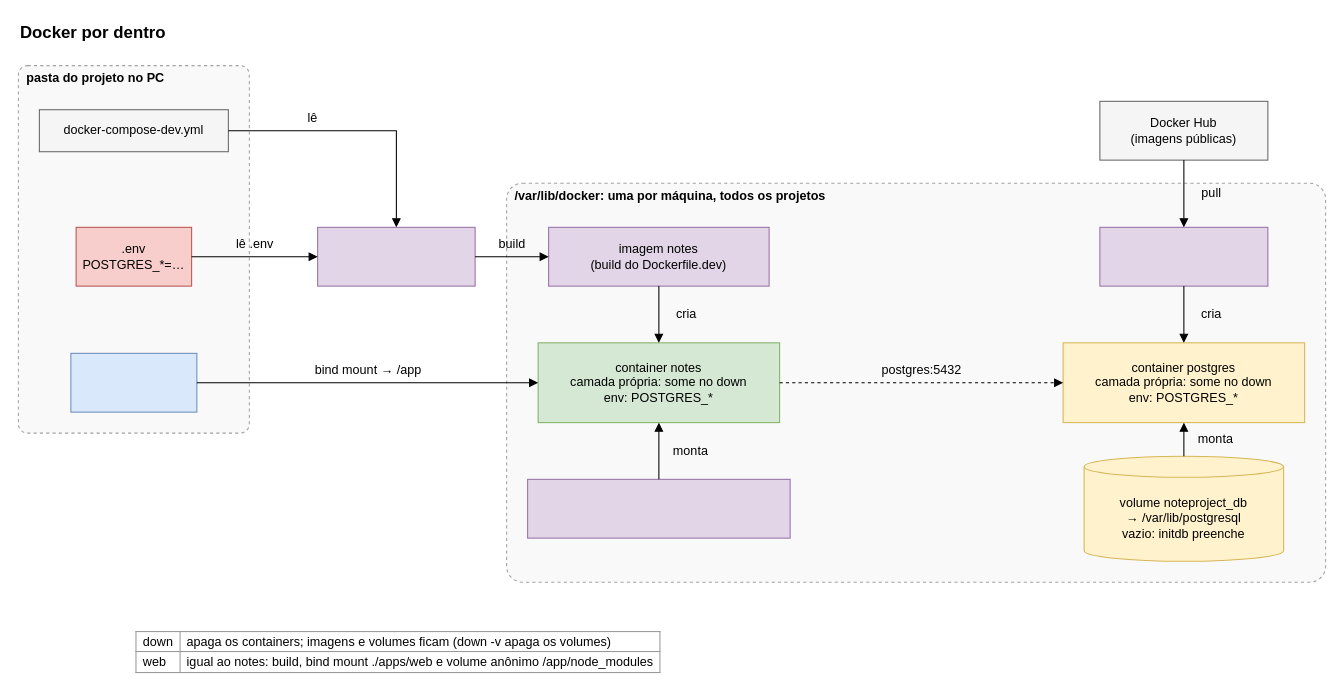
This 1344x694 diagram has some shape labels left out. The shapes that lost their labels are listed below. From the top down, each one's centre as x and y in pixels, then its label:
At (396,256): "docker compose up (roda no PC)".
At (1183,256): "imagem postgres:18 (baixada no 1º up)".
At (133,382): "./apps/notes (o código)".
At (658,508): "volume anônimo → /app/.venv vazio: recebe as libs da imagem".
